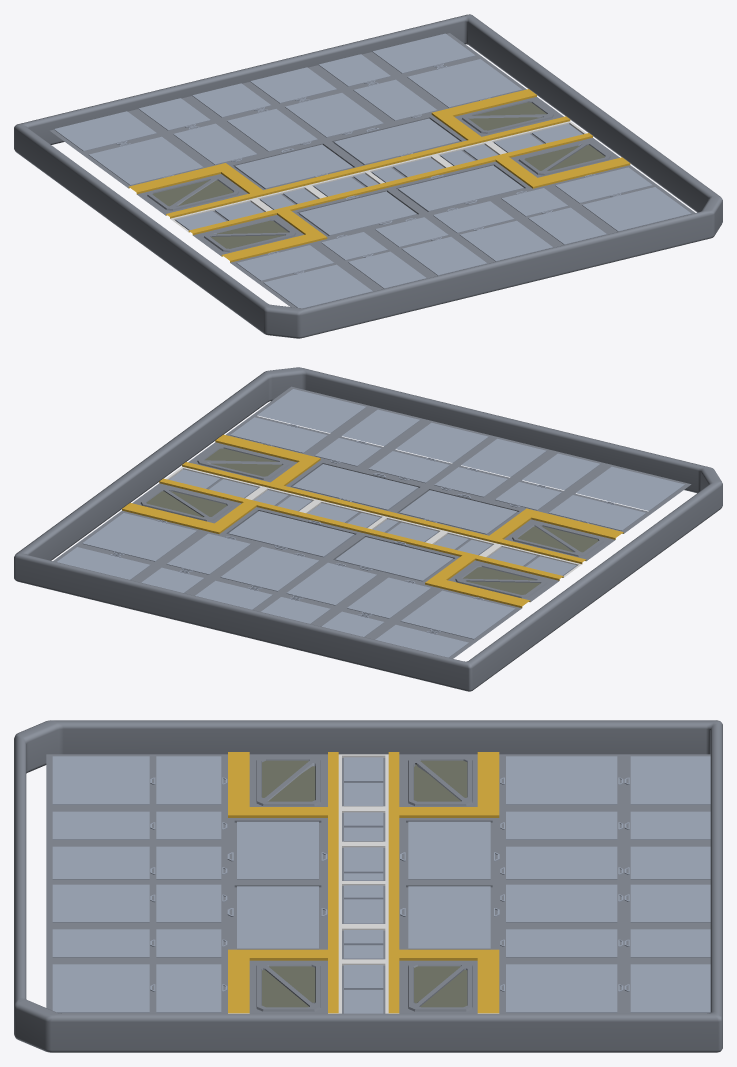
Rendered from Level42_Ground.fbx.
3 views of the same model, one above another, from view 1: azimuth 30°, elevation 25°; view 2: azimuth 150°, elevation 25°; view 3: azimuth 270°, elevation 25° (orthographic). The views are drawn at different scales.
Visible parts, largest first — view 1: pCube100 (×4), Border1, pCube95 (×2), pCube113 (×2), pPlane1 (×4), pCube87 (×4); view 2: Border1, pCube100 (×4), pCube95 (×2), pCube113 (×2), pPlane1 (×4), pCube87 (×4); view 3: pCube100 (×4), Border1, pCube95 (×2), pCube113 (×2), pPlane1 (×4), pCube87 (×4).
Boxes of the visible parts, x1,y1,x2,y2 form: pCube100 (×4): [50, 33, 563, 215]; Border1: [14, 14, 722, 338]; pCube95 (×2): [166, 116, 658, 283]; pCube113 (×2): [259, 186, 695, 308]; pPlane1 (×4): [153, 102, 604, 248]; pCube87 (×4): [147, 99, 610, 252]; Border1: [14, 367, 722, 691]; pCube100 (×4): [53, 483, 558, 658]; pCube95 (×2): [159, 415, 652, 580]; pCube113 (×2): [253, 386, 691, 512]; pPlane1 (×4): [146, 448, 598, 594]; pCube87 (×4): [140, 445, 604, 598]; pCube100 (×4): [399, 752, 710, 1013]; Border1: [14, 720, 722, 1052]; pCube95 (×2): [149, 752, 399, 1013]; pCube113 (×2): [46, 754, 149, 1013]; pPlane1 (×4): [262, 760, 467, 1007]; pCube87 (×4): [256, 757, 472, 1011].
Bounding box in the file's own units: 641 × 36.61 × 642.
